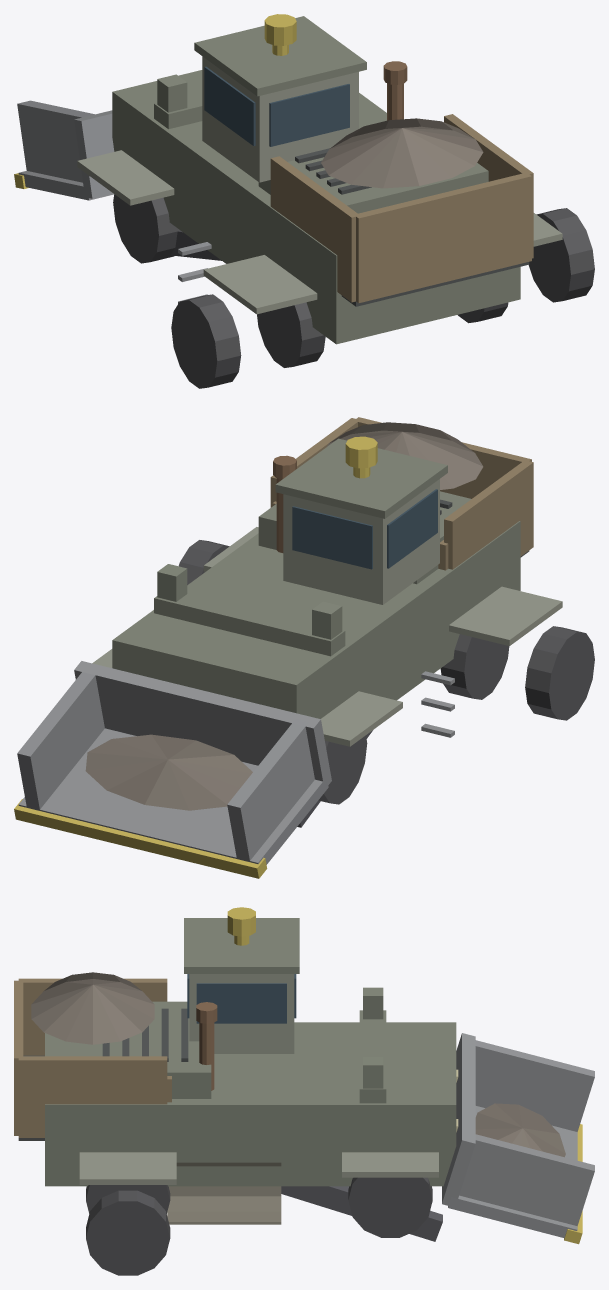
Rendered from chinese_harvester.glb.
The picture shows the model from 3 angles, top to bottom: view 1: azimuth 30°, elevation 25°; view 2: azimuth 150°, elevation 25°; view 3: azimuth 270°, elevation 25°; orthographic projection. The views are drawn at different scales.
Parts seen in each view (by area): view 1: hull, HopperTail, Ore, CabRoof, Bucket, Cab, Hopper_l, wheel_l02b, wheel_r02b, Mudguard_l2, CabGlassRear, Hood (+14 smaller); view 2: hull, Bucket, BucketLoad, Cab, CabRoof, BoomTower, Hopper_l, wheel_l02b, Ore, Mudguard_l2, BucketLip, CabGlassFront (+11 smaller); view 3: hull, Bucket, Hopper_r, Ore, CabRoof, wheel_r02b, FuelTank, wheel_r01a, Cab, Hood, CabGlass_r, Mudguard_r2 (+11 smaller).
Boxes of the visible parts, x1,y1,x2,y2 form: hull: (112, 70, 520, 344); HopperTail: (354, 173, 531, 303); Ore: (321, 118, 483, 188); CabRoof: (194, 16, 366, 96); Bucket: (17, 100, 114, 200); Cab: (202, 56, 358, 182); Hopper_l: (270, 156, 359, 302); wheel_l02b: (171, 294, 241, 388); wheel_r02b: (528, 208, 594, 302); Mudguard_l2: (203, 255, 317, 314); CabGlassRear: (269, 84, 349, 146); Hood: (258, 157, 488, 213); hull: (112, 521, 520, 718); Bucket: (17, 661, 331, 864); BucketLoad: (85, 734, 252, 810); Cab: (283, 479, 439, 604); CabRoof: (275, 438, 447, 518); BoomTower: (154, 564, 345, 656); Hopper_l: (444, 460, 533, 569); wheel_l02b: (525, 626, 594, 720); Ore: (326, 422, 483, 489); Mudguard_l2: (449, 586, 562, 645); BucketLip: (14, 799, 267, 878); CabGlassFront: (292, 506, 372, 569); hull: (45, 1022, 456, 1186); Bucket: (442, 1033, 594, 1238); Hopper_r: (18, 1056, 167, 1137); Ore: (31, 972, 154, 1044); CabRoof: (184, 918, 299, 973); wheel_r02b: (86, 1190, 170, 1275); FuelTank: (167, 1162, 281, 1224); wheel_r01a: (348, 1177, 432, 1237); Cab: (189, 974, 294, 1053); Hood: (80, 1001, 211, 1098); CabGlass_r: (196, 983, 286, 1023); Mudguard_r2: (79, 1152, 176, 1184).
Size of the model in its own units: 5.13 by 3.84 by 7.44.
